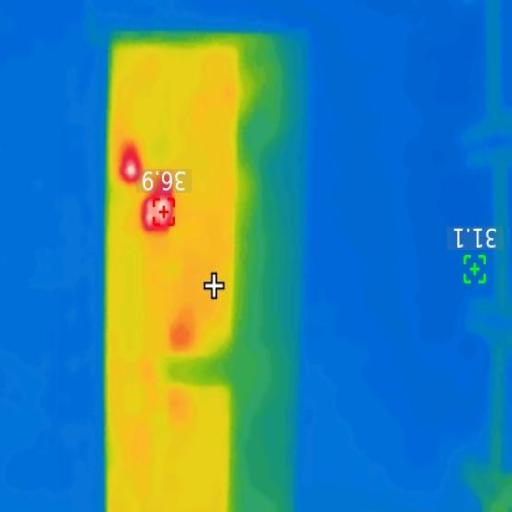hotspot: (143, 195, 170, 227), (122, 151, 137, 179)
